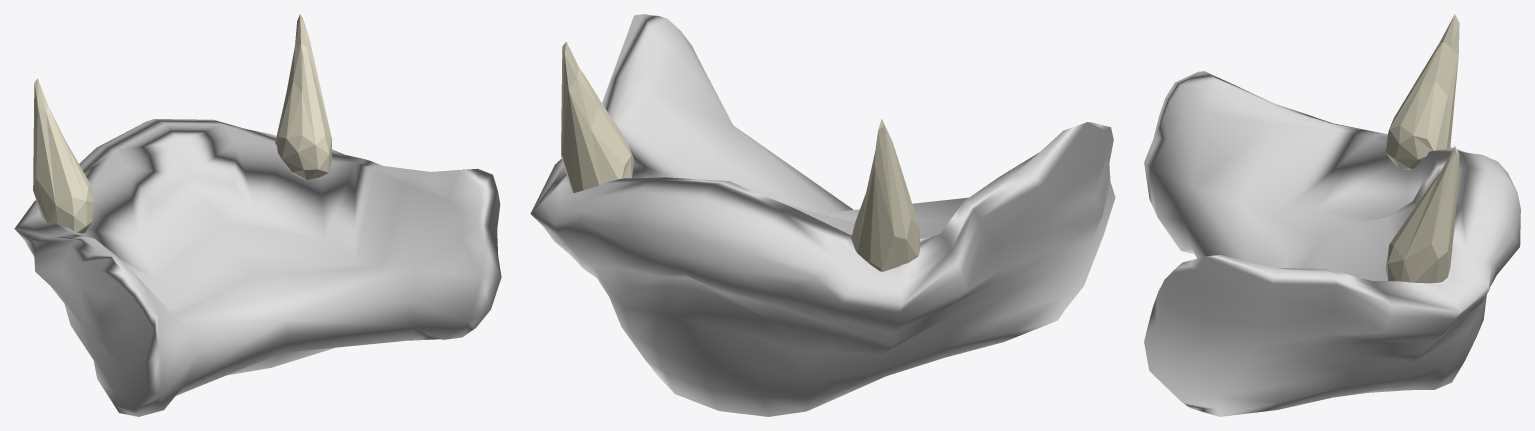
The model's file is OrcJaw4.fbx.
3 renders of one model, left to right at view 1: azimuth 30°, elevation 25°; view 2: azimuth 150°, elevation 25°; view 3: azimuth 270°, elevation 25°, orthographic. The views are drawn at different scales.
Parts seen in each view (by area): view 1: Jaw, teeth2Large; view 2: Jaw, teeth2Large; view 3: Jaw, teeth2Large.
Boxes of the visible parts, x1,y1,x2,y2 form: Jaw: (14, 119, 501, 416); teeth2Large: (33, 14, 331, 233); Jaw: (530, 14, 1115, 416); teeth2Large: (561, 42, 919, 271); Jaw: (1144, 71, 1520, 416); teeth2Large: (1385, 14, 1459, 283).
Size of the model in its own units: 0.1627 by 0.1105 by 0.1306.
